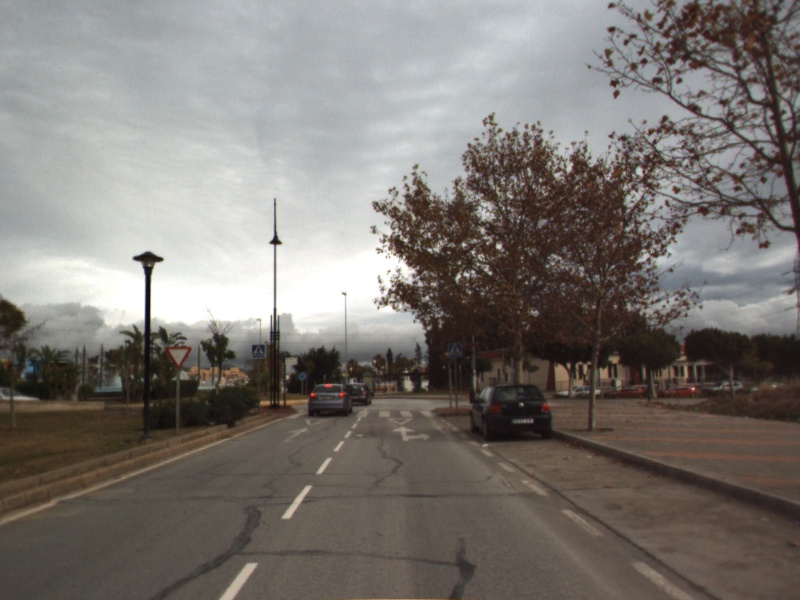STRAIGHT: (280, 425, 314, 444)
STRAIGHT_RIGHT: (389, 424, 433, 443)
